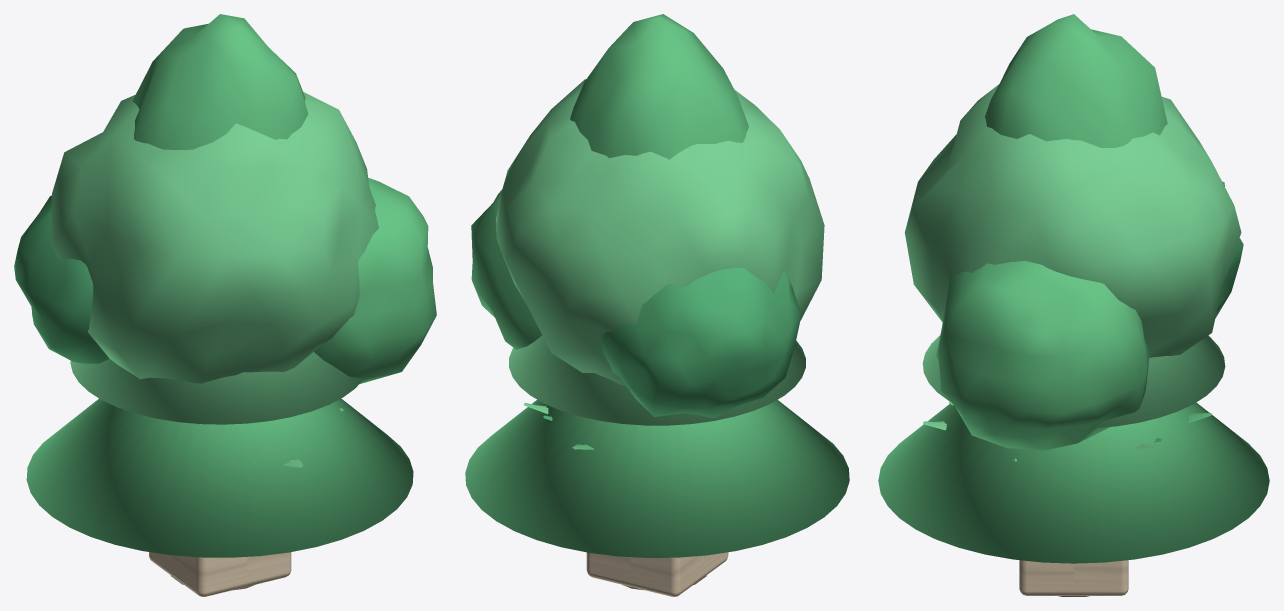
Rendered from nature.glb.
3 views of the same model, side by side, from view 1: azimuth 30°, elevation 25°; view 2: azimuth 150°, elevation 25°; view 3: azimuth 270°, elevation 25° (orthographic).
Parts seen in each view (by area): view 1: tree_a_Leaf1, tree_b_Leaf0, tree_c_Leaf0, tree_a_Leaf0, tree_b_Leaf1, tree_a_Leaf2, plant_b_Wood; view 2: tree_a_Leaf1, tree_b_Leaf0, tree_a_Leaf2, tree_c_Leaf0, tree_b_Leaf1, tree_a_Leaf0, plant_b_Wood; view 3: tree_a_Leaf1, tree_b_Leaf0, tree_a_Leaf0, tree_c_Leaf0, tree_b_Leaf1, plant_b_Wood, tree_a_Leaf2.
Boxes of the visible parts, left/top/right/bottom form: tree_a_Leaf1: left=51, top=92, right=378, bottom=383; tree_b_Leaf0: left=26, top=398, right=413, bottom=557; tree_c_Leaf0: left=132, top=14, right=308, bottom=149; tree_a_Leaf0: left=314, top=177, right=436, bottom=383; tree_b_Leaf1: left=70, top=352, right=363, bottom=424; tree_a_Leaf2: left=14, top=195, right=109, bottom=364; plant_b_Wood: left=149, top=552, right=291, bottom=596; tree_a_Leaf1: left=496, top=79, right=824, bottom=385; tree_b_Leaf0: left=465, top=399, right=849, bottom=557; tree_a_Leaf2: left=601, top=267, right=801, bottom=418; tree_c_Leaf0: left=570, top=14, right=748, bottom=159; tree_b_Leaf1: left=509, top=335, right=805, bottom=425; tree_a_Leaf0: left=471, top=189, right=541, bottom=349; plant_b_Wood: left=586, top=552, right=728, bottom=596; tree_a_Leaf1: left=904, top=84, right=1241, bottom=357; tree_b_Leaf0: left=878, top=402, right=1269, bottom=563; tree_a_Leaf0: left=936, top=261, right=1149, bottom=450; tree_c_Leaf0: left=985, top=14, right=1167, bottom=147; tree_b_Leaf1: left=922, top=335, right=1225, bottom=428; plant_b_Wood: left=1019, top=560, right=1128, bottom=595; tree_a_Leaf2: left=1215, top=181, right=1243, bottom=318.
Size of the model in its own units: 1.59 by 2.37 by 1.5.
Materials: 8 (1 with a texture image).
